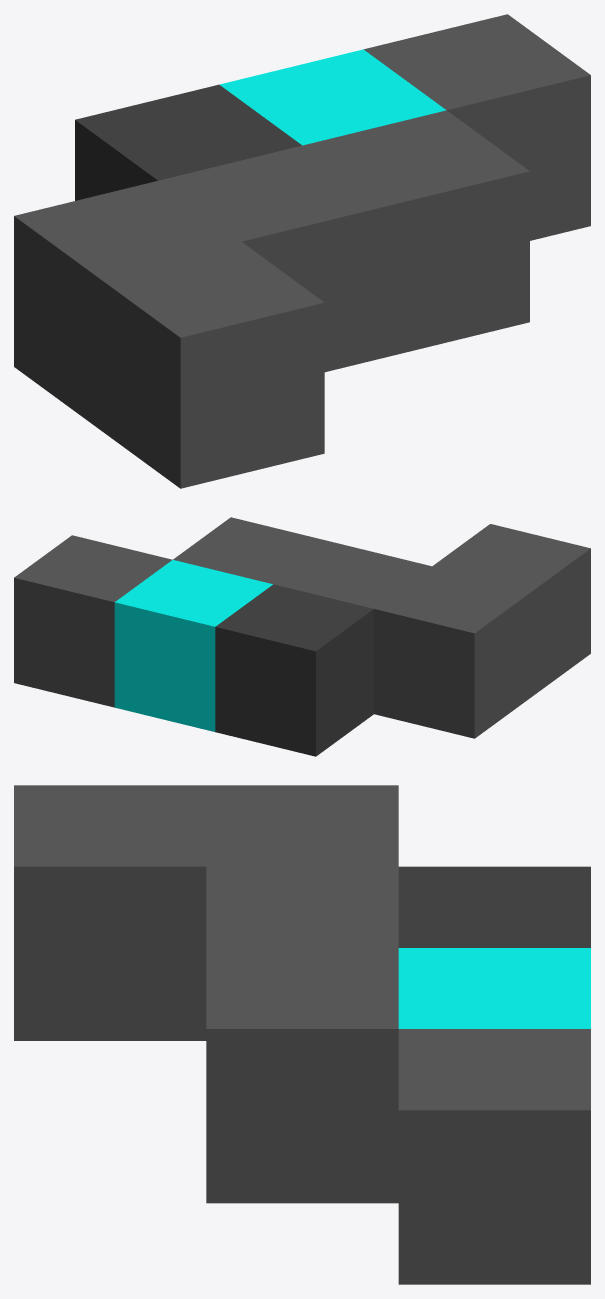
File: Extra-6-MicroRecon_BackWing_L.obj
3 renders of one model, top to bottom at view 1: azimuth 30°, elevation 25°; view 2: azimuth 150°, elevation 25°; view 3: azimuth 270°, elevation 25°, orthographic. The views are drawn at different scales.
Visible parts, largest first — view 1: MicroRecon_BackWing_L; view 2: MicroRecon_BackWing_L; view 3: MicroRecon_BackWing_L.
Part boxes in pixels (left/top/right/bottom): MicroRecon_BackWing_L: left=14, top=14, right=590, bottom=488; MicroRecon_BackWing_L: left=14, top=517, right=590, bottom=756; MicroRecon_BackWing_L: left=14, top=785, right=590, bottom=1284.
Size of the model in its own units: 0.4 by 0.1 by 0.3.
Materials: 1 (1 with a texture image).
